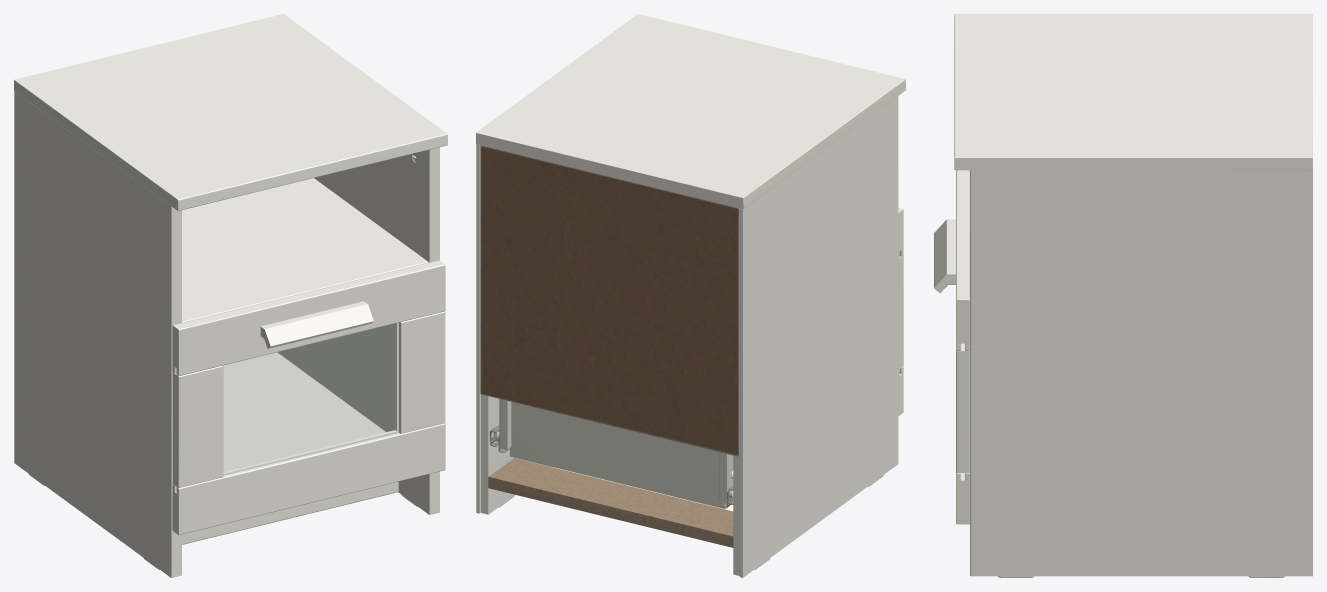
Rendered from brimnes_nightstand_white.glb.
The picture shows the model from 3 angles, left to right: view 1: azimuth 30°, elevation 25°; view 2: azimuth 150°, elevation 25°; view 3: azimuth 270°, elevation 25°; orthographic projection. The views are drawn at different scales.
Parts seen in each view (by area): view 1: Mesh_0; view 2: Mesh_0; view 3: Mesh_0.
Part boxes in pixels (<box>): Mesh_0: <box>14,14,447,577</box>; Mesh_0: <box>476,14,905,577</box>; Mesh_0: <box>934,14,1312,577</box>.
Size of the model in its own units: 0.391 by 0.534 by 0.4351.
Materials: 2 (2 with a texture image).
